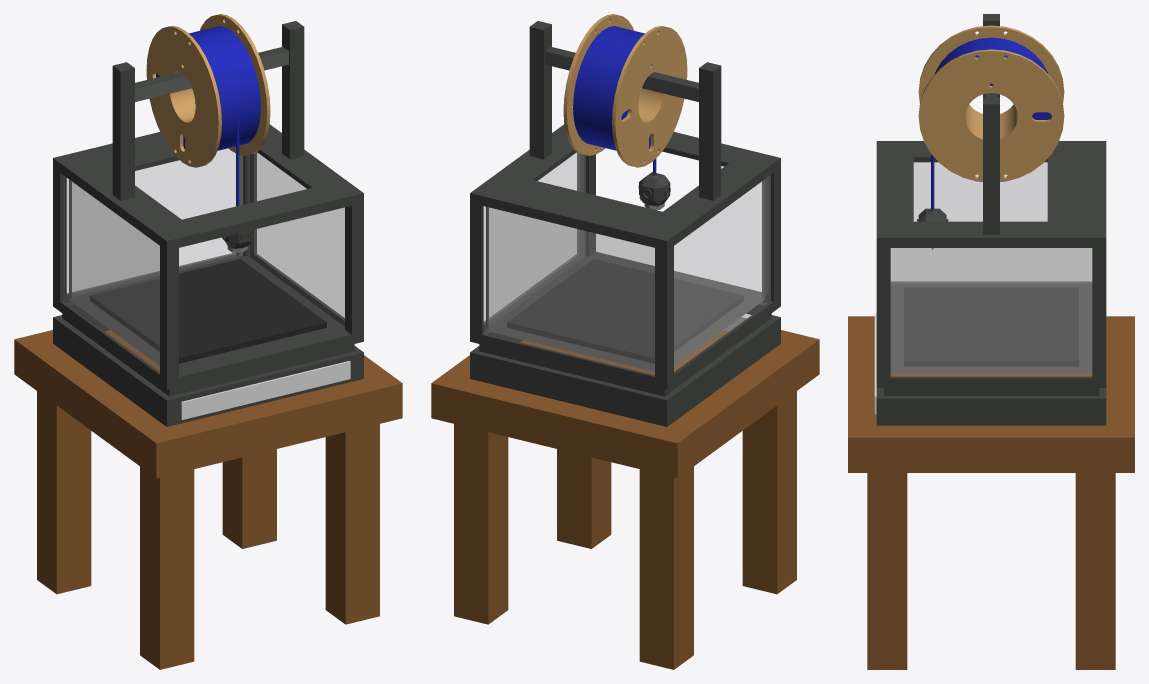
File: PrinterBluePLA.glb
3 renders of one model, left to right at view 1: azimuth 30°, elevation 25°; view 2: azimuth 150°, elevation 25°; view 3: azimuth 270°, elevation 25°, orthographic.
Parts seen in each view (by area): view 1: Printer, Table Legs, Table, Roll, PLA Holder, PLA Blue, Progress Bar, Nozzle + Head + PLA; view 2: Printer, Table Legs, Table, Roll, PLA Holder, PLA Blue, Nozzle + Head + PLA; view 3: Printer, Table, Table Legs, Roll, PLA Holder, PLA Blue, Nozzle + Head + PLA.
Part boxes in pixels (x1,y1,x2,y2): Printer: (53,124,363,426); Table Legs: (37,391,379,669); Table: (14,330,402,478); Roll: (146,14,270,167); PLA Holder: (112,21,304,200); PLA Blue: (156,26,260,150); Progress Bar: (181,361,350,419); Nozzle + Head + PLA: (222,115,253,256); Printer: (470,124,780,426); Table Legs: (454,391,796,669); Table: (431,330,819,478); Roll: (563,14,687,167); PLA Holder: (529,21,721,200); PLA Blue: (573,26,650,150); Nozzle + Head + PLA: (638,158,670,210); Printer: (876,141,1106,425); Table: (848,316,1134,472); Table Legs: (867,473,1115,669); Roll: (918,25,1064,181); PLA Holder: (983,14,999,234); PLA Blue: (935,37,1051,119); Nozzle + Head + PLA: (917,154,948,249).
Bounding box in the file's own units: 2.5 × 5.55 × 2.5.
Materials: 9 (1 with a texture image).
